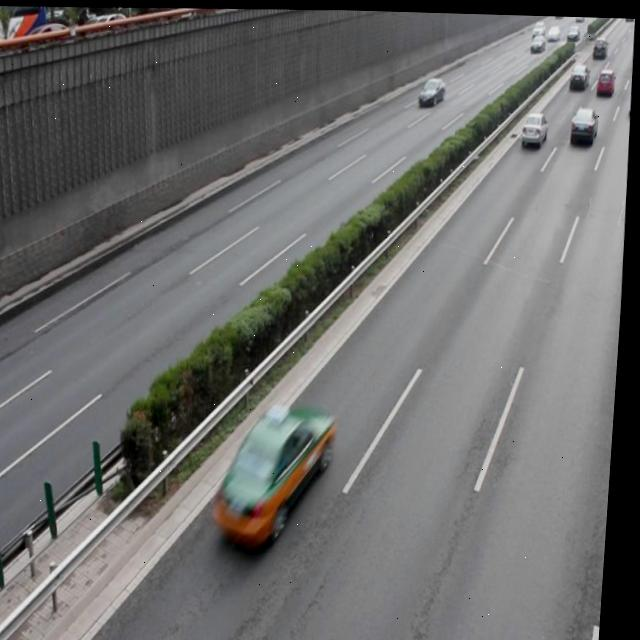car: (213, 397, 343, 547)
